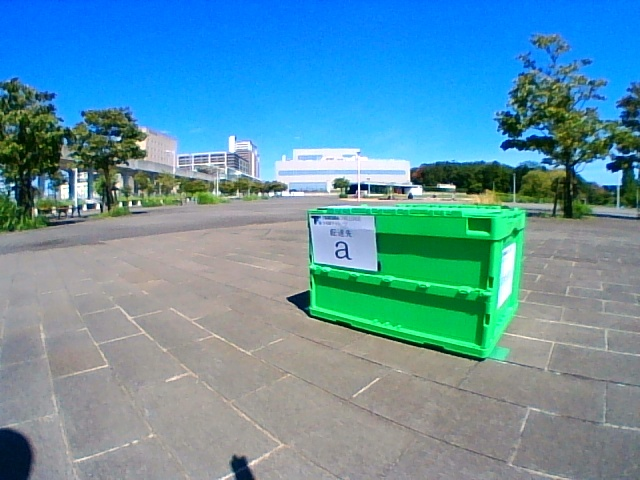green_box: (307, 203, 526, 359)
tag_a: (317, 223, 372, 263)
